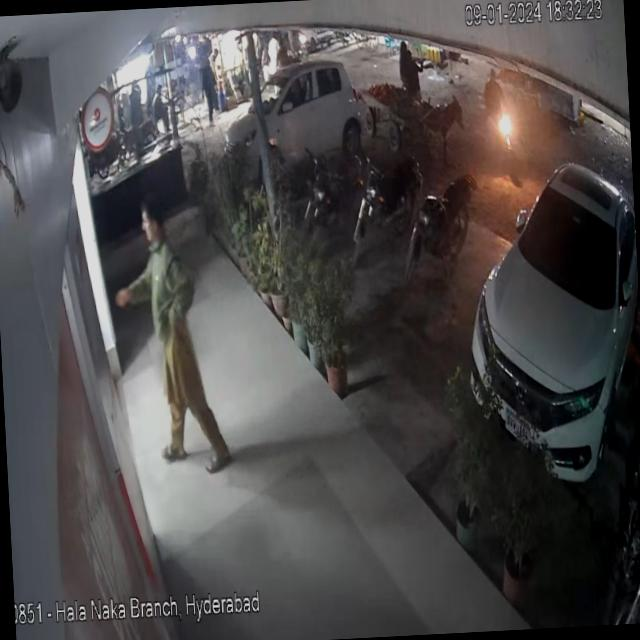Car: (458, 141, 640, 507), (220, 60, 384, 190)
Motorcycle: (350, 138, 429, 272), (400, 176, 482, 293), (289, 134, 365, 250)
